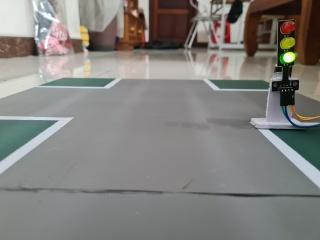green: (271, 14, 298, 78)
